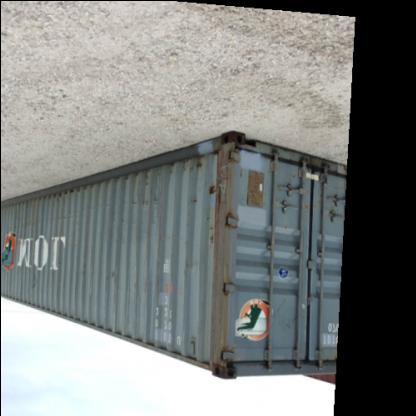Damage: (8, 203, 40, 294), (207, 173, 231, 213), (170, 152, 206, 174), (36, 190, 92, 204), (114, 171, 156, 188), (200, 214, 218, 246), (102, 266, 124, 290), (120, 198, 162, 210), (188, 196, 198, 208)
